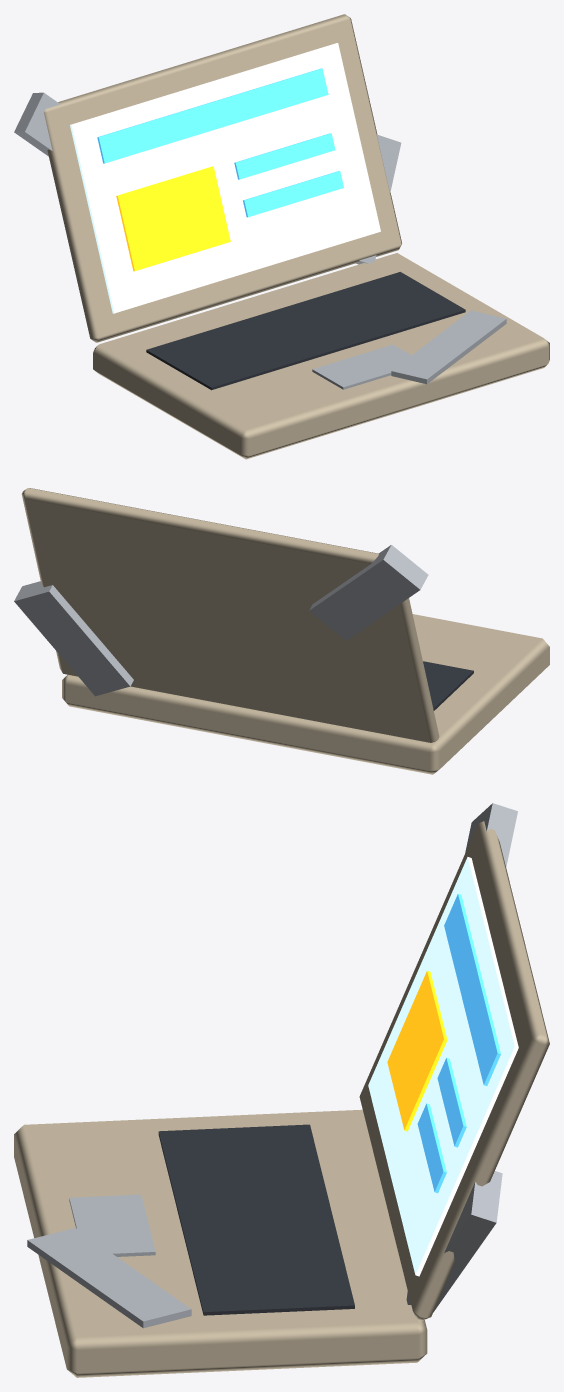
The model's file is station_processing_ausstattung_2_0.glb.
3 views of the same model, one above another, from view 1: azimuth 30°, elevation 25°; view 2: azimuth 150°, elevation 25°; view 3: azimuth 270°, elevation 25° (orthographic). The views are drawn at different scales.
Visible parts, largest first — view 1: station_processing_ausstattung_2_0; view 2: station_processing_ausstattung_2_0; view 3: station_processing_ausstattung_2_0.
Boxes of the visible parts, x1=… form: station_processing_ausstattung_2_0: x1=14, y1=14, x2=549, y2=459; station_processing_ausstattung_2_0: x1=14, y1=488, x2=549, y2=774; station_processing_ausstattung_2_0: x1=14, y1=803, x2=549, y2=1377.
Size of the model in its own units: 0.4849 by 0.3016 by 0.4286.
